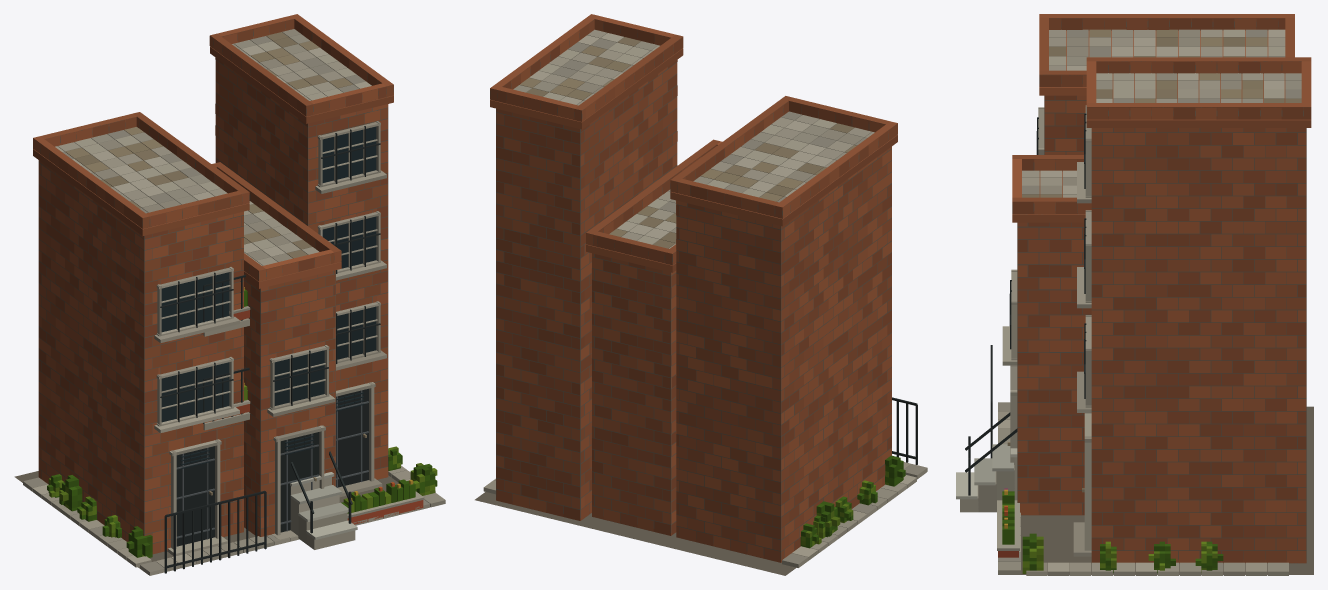
The model's file is SM_Mapa_077.fbx.
The picture shows the model from 3 angles, left to right: view 1: azimuth 30°, elevation 25°; view 2: azimuth 150°, elevation 25°; view 3: azimuth 270°, elevation 25°; orthographic projection. The views are drawn at different scales.
Visible parts, largest first — view 1: SM_Mapa_077; view 2: SM_Mapa_077; view 3: SM_Mapa_077.
Boxes of the visible parts, <box> form: SM_Mapa_077: <box>14,14,445,575</box>; SM_Mapa_077: <box>475,14,927,575</box>; SM_Mapa_077: <box>956,14,1313,575</box>.
Bounding box in the file's own units: 8 × 7.02 × 9.96.
